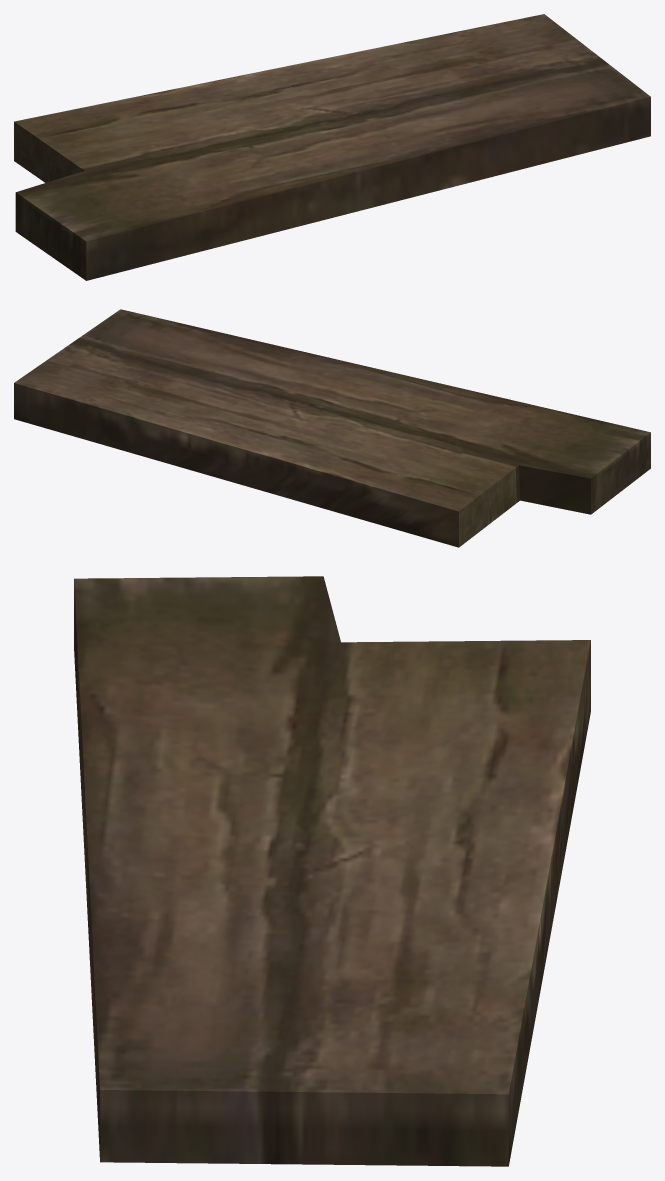
Rendered from common_yewai_muban02.FBX.
The picture shows the model from 3 angles, top to bottom: view 1: azimuth 30°, elevation 25°; view 2: azimuth 150°, elevation 25°; view 3: azimuth 270°, elevation 25°; orthographic projection. The views are drawn at different scales.
Parts seen in each view (by area): view 1: common_yewai_muban02; view 2: common_yewai_muban02; view 3: common_yewai_muban02.
Boxes of the visible parts, bbox=[...] form: common_yewai_muban02: bbox=[14, 14, 650, 280]; common_yewai_muban02: bbox=[14, 309, 650, 547]; common_yewai_muban02: bbox=[74, 576, 590, 1166].
Bounding box in the file's own units: 2.5 × 0.163 × 1.05.
